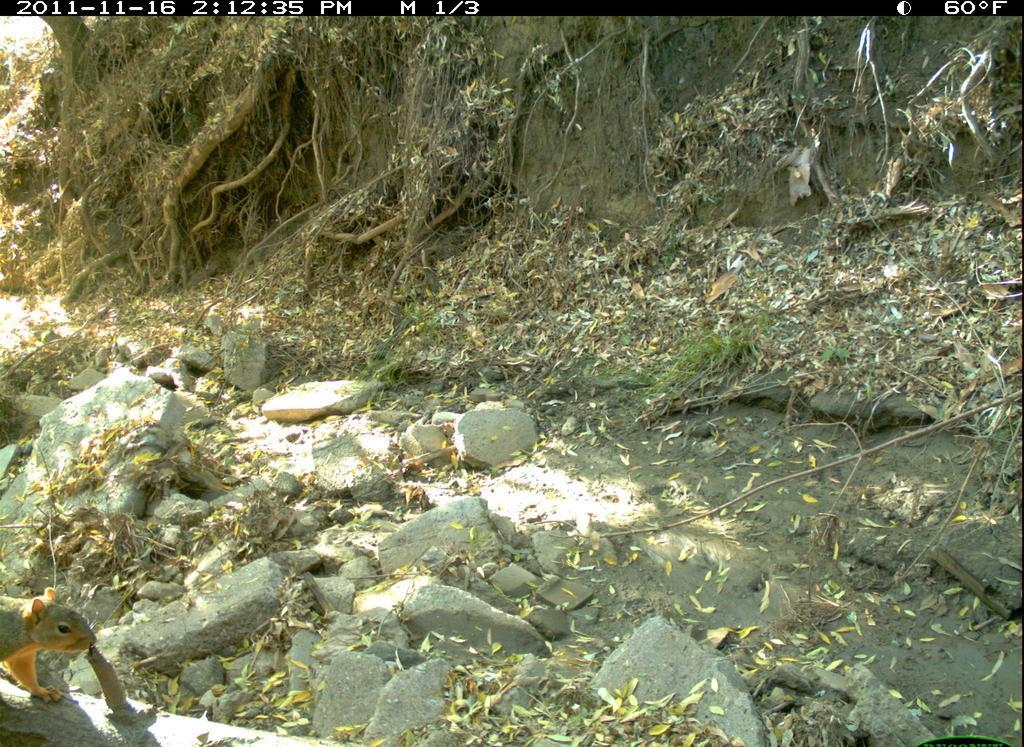squirrel: (2, 578, 109, 717)
